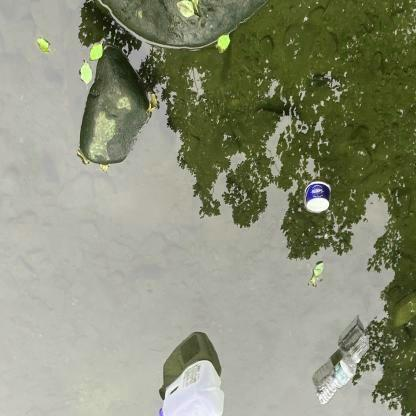Plastic: (156, 356, 228, 416), (314, 338, 375, 407)
Trash: (298, 174, 334, 218)
